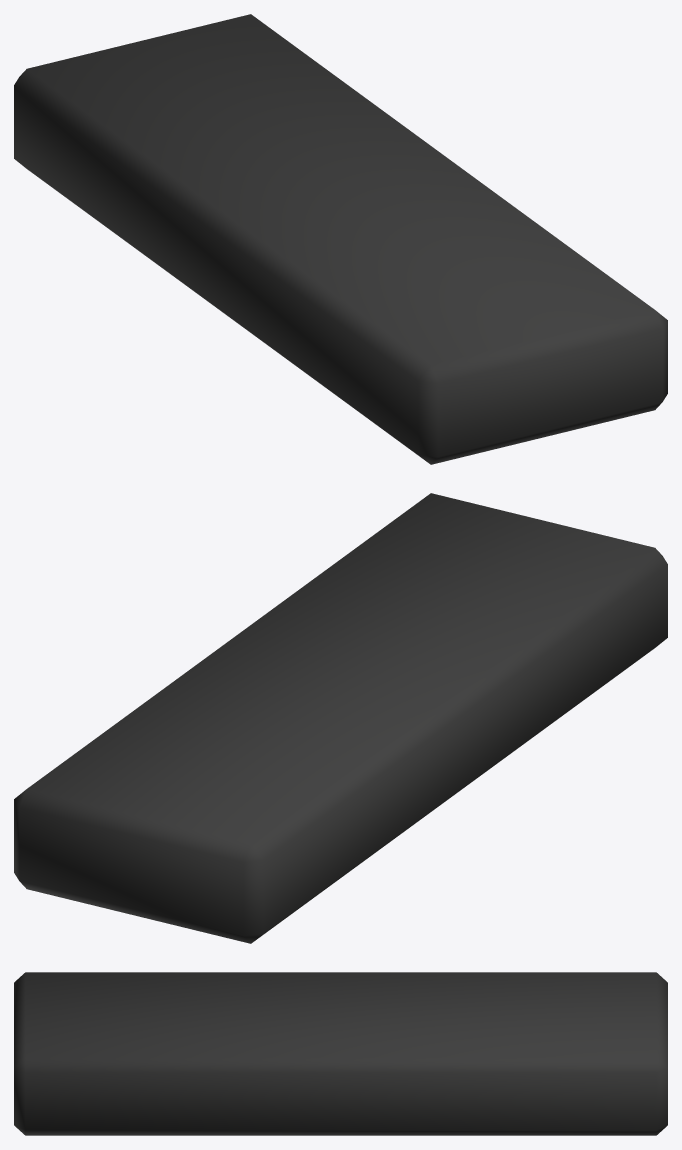
File: Podest_3_1.glb
3 renders of one model, top to bottom at view 1: azimuth 30°, elevation 25°; view 2: azimuth 150°, elevation 25°; view 3: azimuth 270°, elevation 25°, orthographic. The views are drawn at different scales.
Visible parts, largest first — view 1: Podest_3_1; view 2: Podest_3_1; view 3: Podest_3_1.
Part boxes in pixels (x1,y1,x2,y2): Podest_3_1: [14, 14, 667, 464]; Podest_3_1: [14, 493, 667, 943]; Podest_3_1: [14, 972, 667, 1135].
Size of the model in its own units: 0.2487 by 0.0953 by 0.7226.
Materials: 1 (1 with a texture image).
